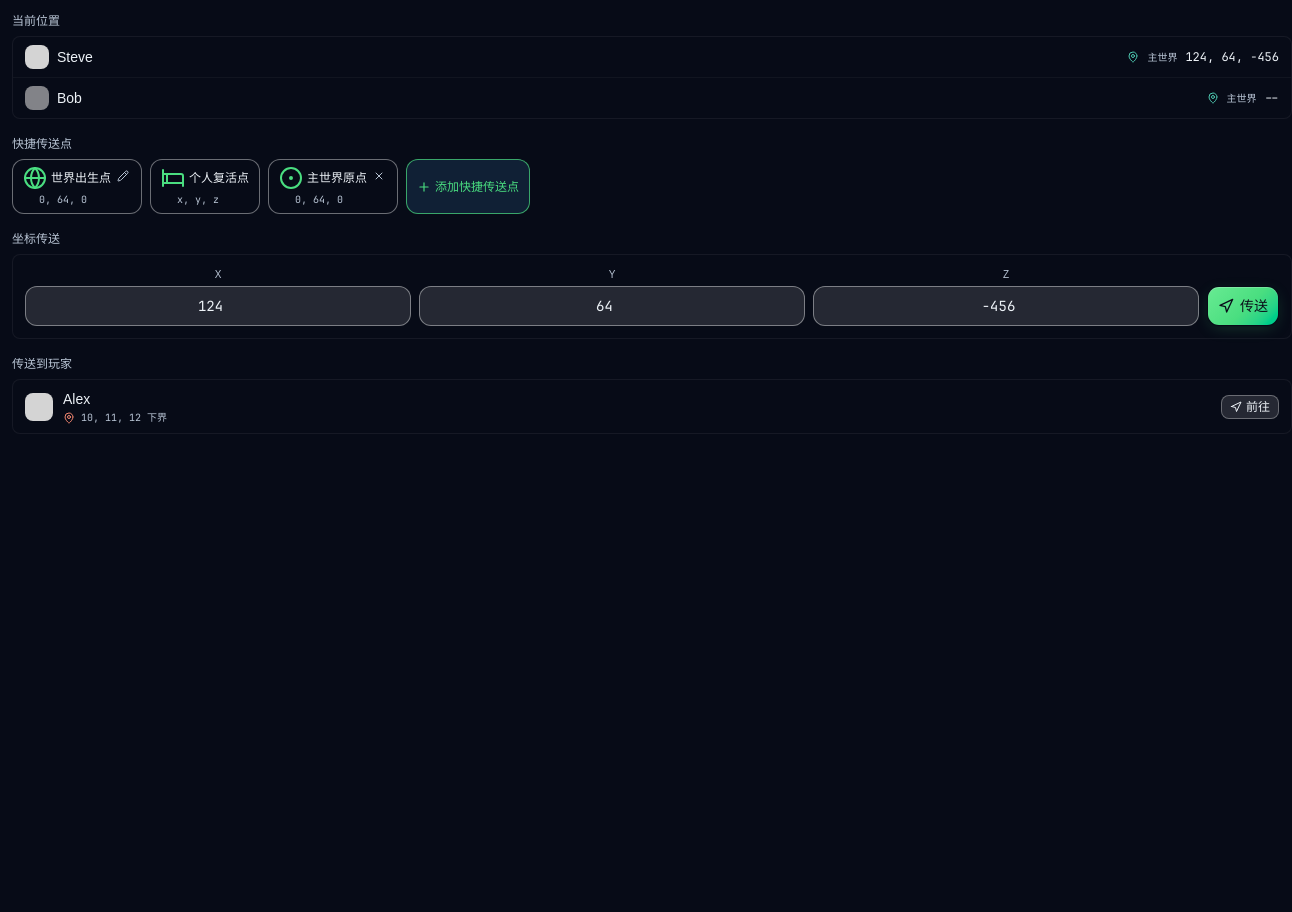
Test case: TeleportTab › 批量模式：当前位置多行列表 + 跳过离线目标 + 汇总 toast
expect the heading "当前位置" is shown: met, box [12,14,60,28]
expect the text "124, 64, -456" is shown: met, box [1185,48,1279,66]
世界出生点：仅在线目标 Steve 执行；Bob 计入跳过离线
Click the text "世界出生点".
click(67, 178)  # box [23,166,111,190]
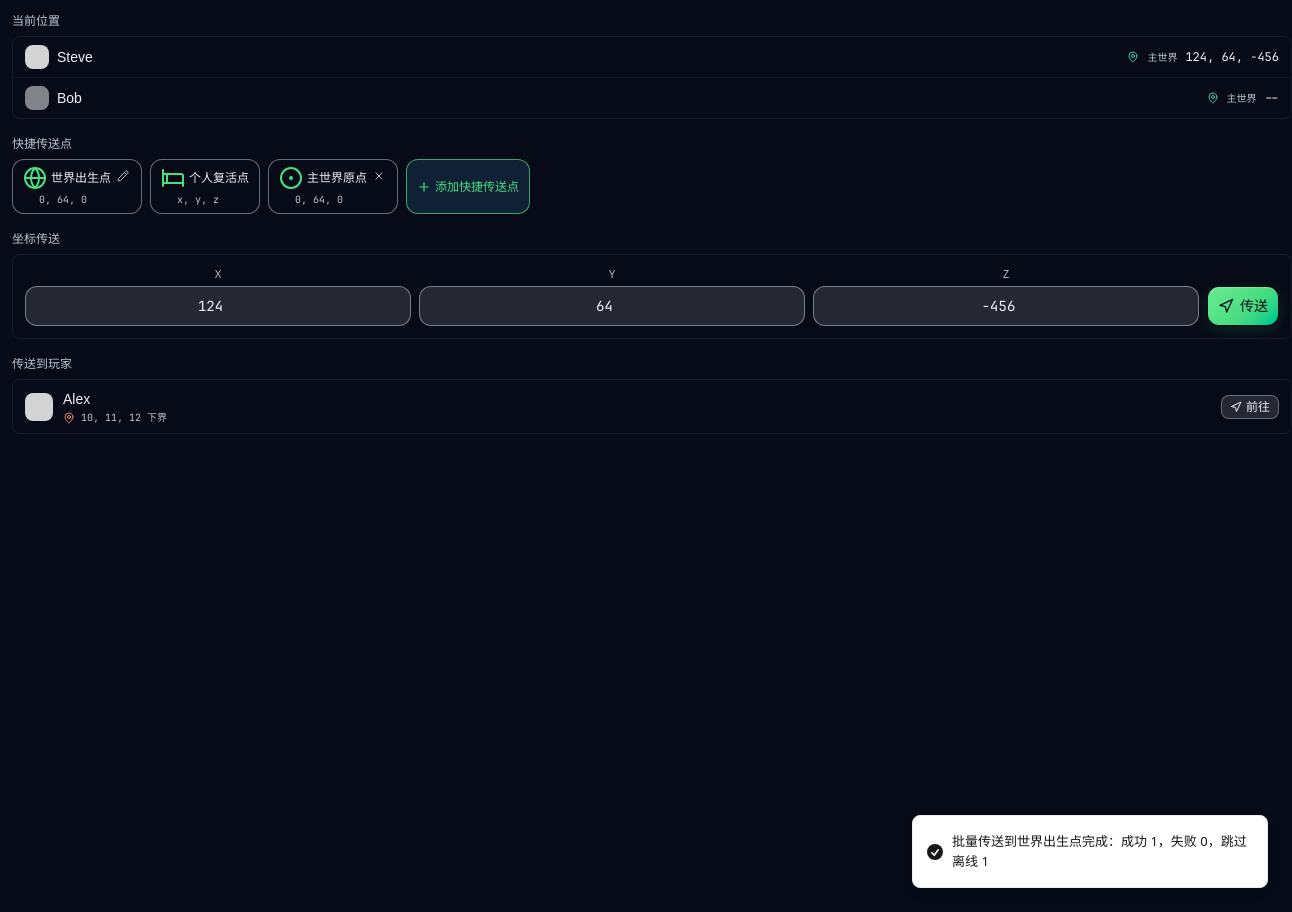
expect the text "批量传送到世界出生点完成：成功 1，失败 0，跳过离线 1" is shown: met, box [952,832,1251,871]
